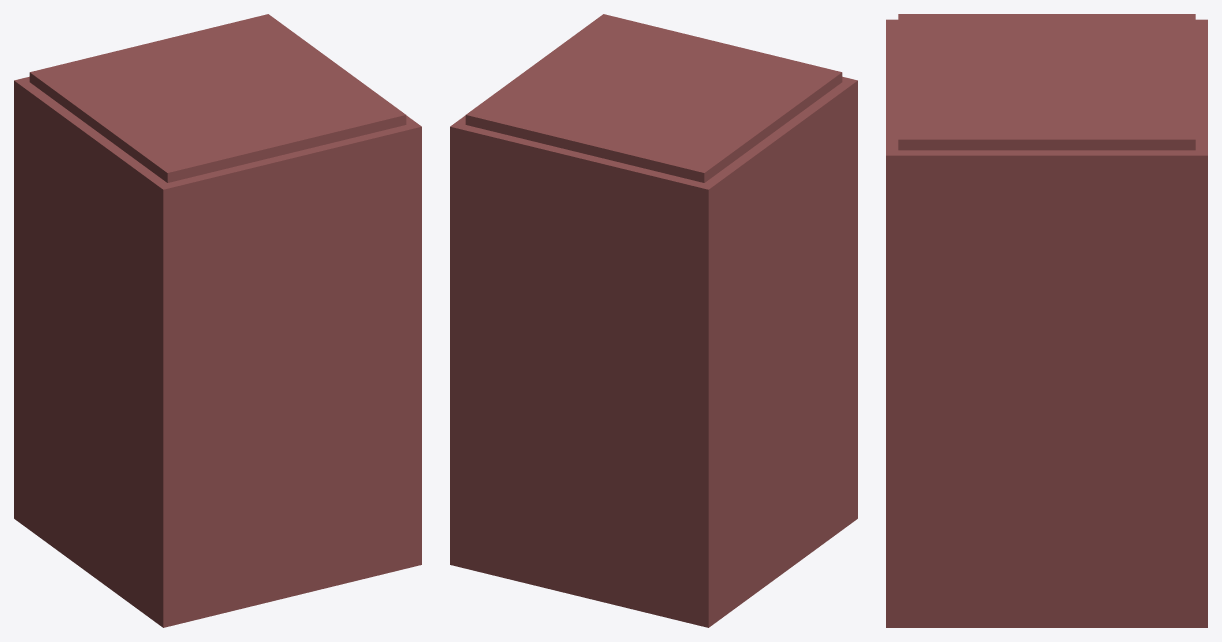
The model's file is colon3_center.fbx.
3 renders of one model, left to right at view 1: azimuth 30°, elevation 25°; view 2: azimuth 150°, elevation 25°; view 3: azimuth 270°, elevation 25°, orthographic. The views are drawn at different scales.
Parts seen in each view (by area): view 1: colon3_c3enter; view 2: colon3_c3enter; view 3: colon3_c3enter.
Part boxes in pixels (left/top/right/bottom): colon3_c3enter: left=14, top=14, right=421, bottom=627; colon3_c3enter: left=450, top=14, right=857, bottom=627; colon3_c3enter: left=886, top=14, right=1207, bottom=627.
Bounding box in the file's own units: 0.6032 × 0.9988 × 0.6032.
